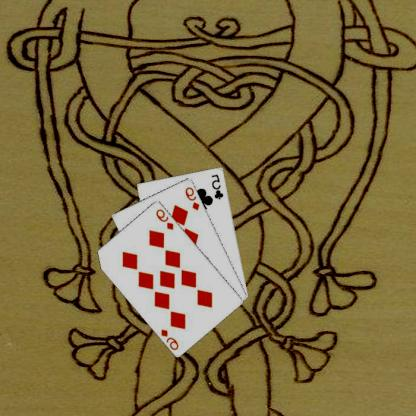5C: (211, 171, 226, 200)
9D: (155, 206, 177, 231), (160, 326, 182, 351), (184, 184, 203, 212)
